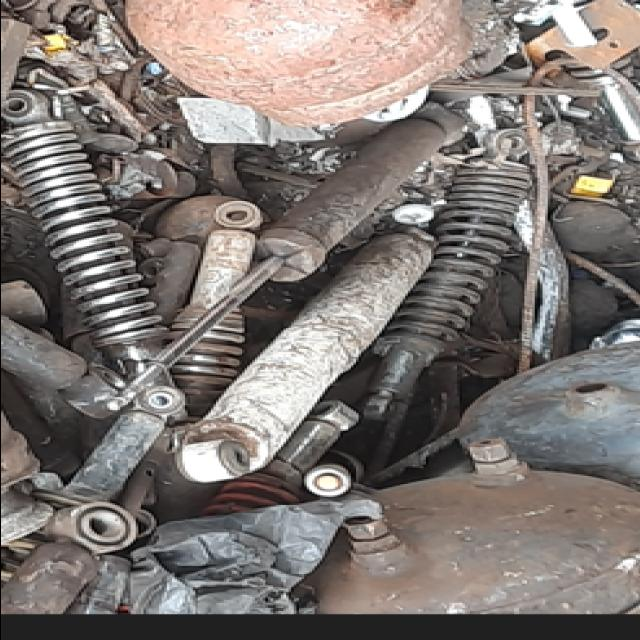shock absorber: (160, 102, 466, 366), (3, 90, 184, 415), (360, 128, 533, 419)
